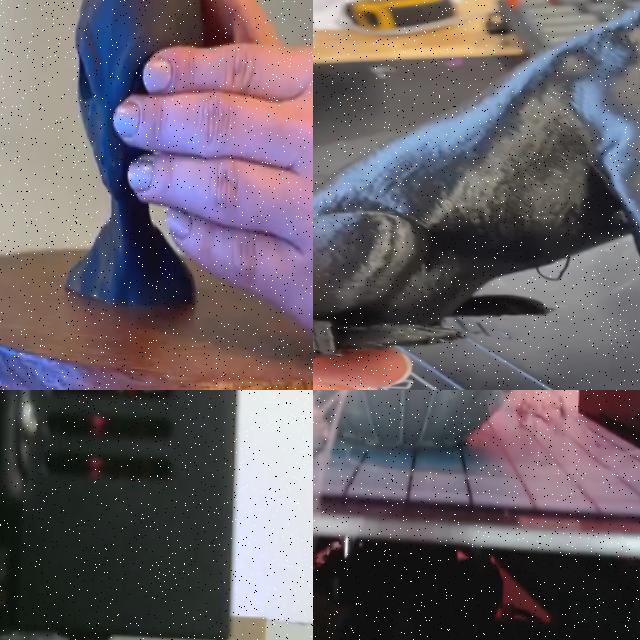spaghetti: (313, 390, 587, 478)
